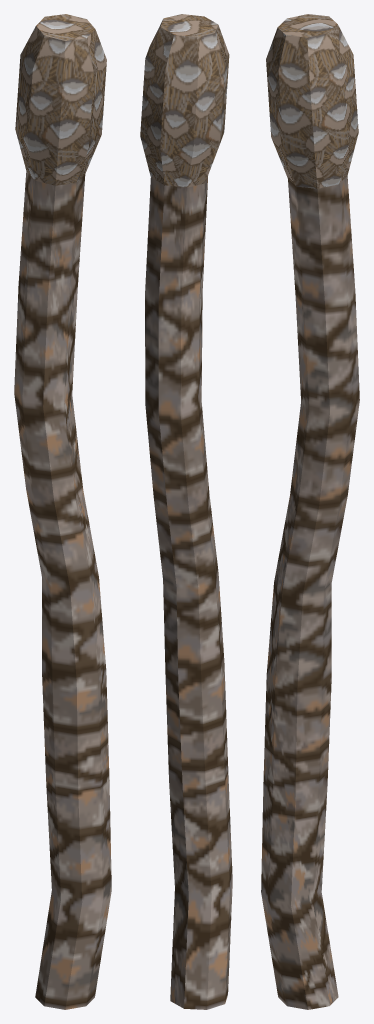
The model's file is Palm log.fbx.
3 views of the same model, side by side, from view 1: azimuth 90°, elevation 25°; view 2: azimuth 150°, elevation 25°; view 3: azimuth 270°, elevation 25° (orthographic).
Visible parts, largest first — view 1: Cylinder; view 2: Cylinder; view 3: Cylinder.
Boxes of the visible parts, left/top/right/bottom form: Cylinder: left=14, top=14, right=111, bottom=1009; Cylinder: left=140, top=14, right=232, bottom=1009; Cylinder: left=261, top=14, right=359, bottom=1009.
Bounding box in the file's own units: 79.41 × 946 × 86.61.
